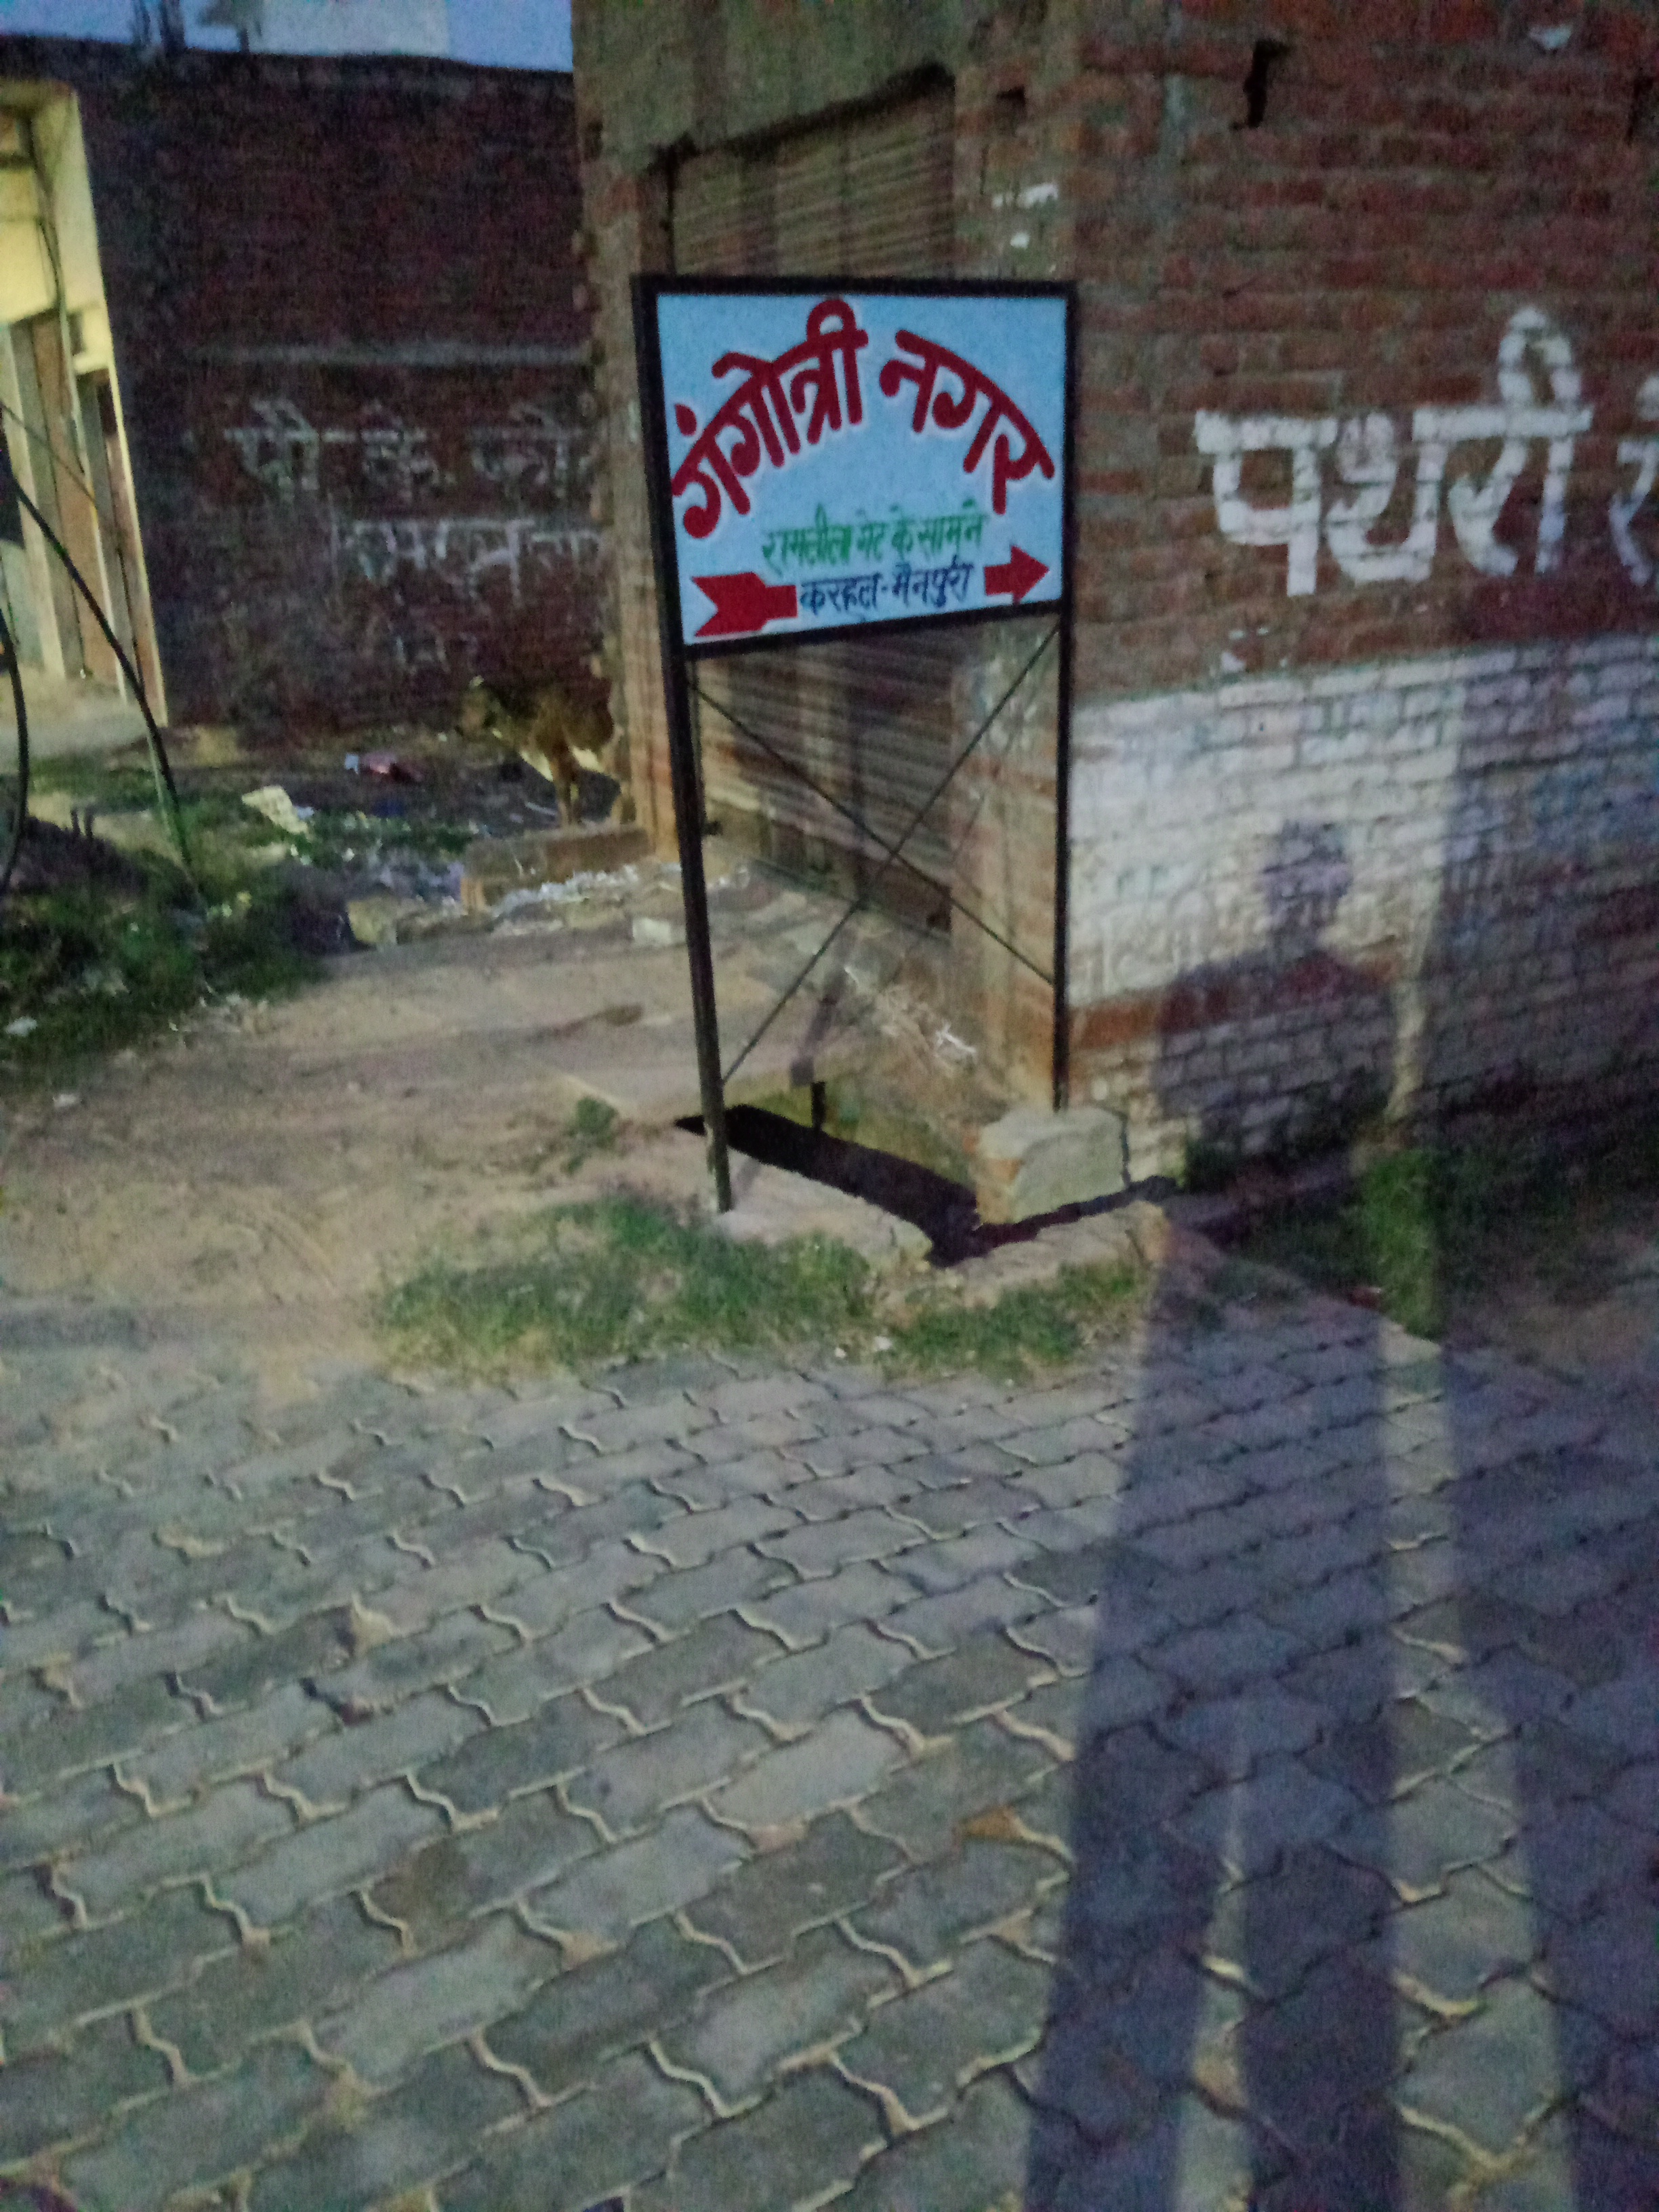text: (1148, 270, 1659, 651), (641, 263, 1061, 664), (193, 348, 612, 698)
